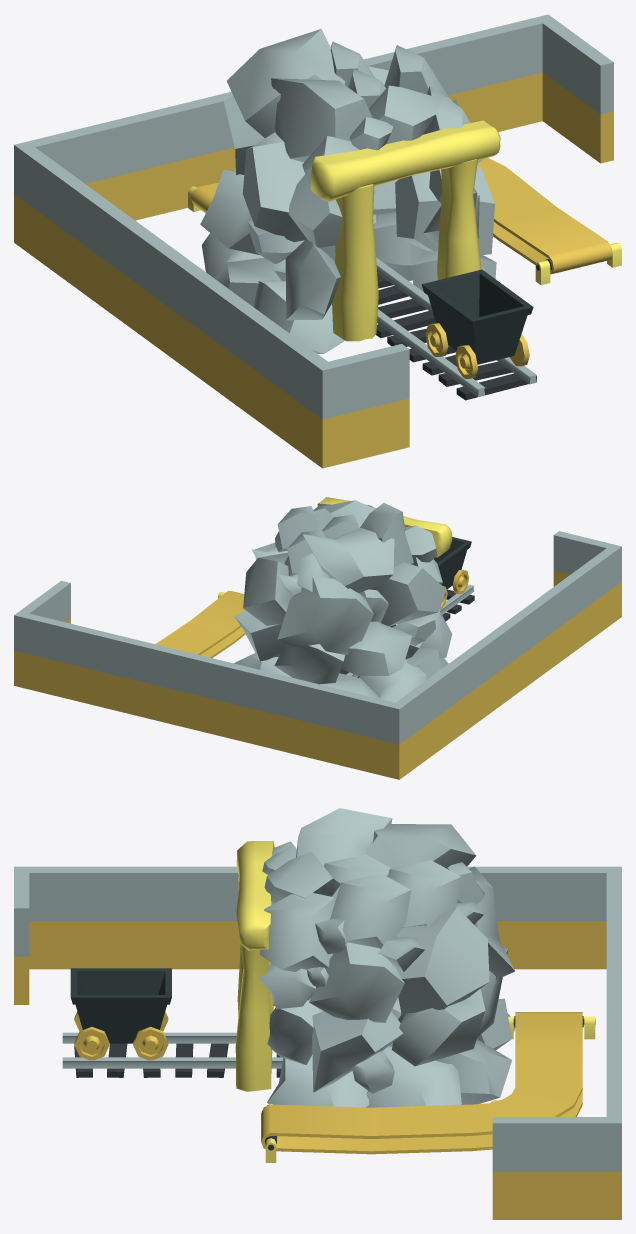
Rendered from Mine.fbx.
The picture shows the model from 3 angles, top to bottom: view 1: azimuth 30°, elevation 25°; view 2: azimuth 150°, elevation 25°; view 3: azimuth 270°, elevation 25°; orthographic projection. The views are drawn at different scales.
Parts seen in each view (by area): view 1: Zabor, Mine, Conveur, Wagon, Rails, WagonWheelR, WagonWheelF; view 2: Zabor, Mine, Conveur, Wagon, Rails; view 3: Mine, Zabor, Conveur, Wagon, Rails, WagonWheelR, WagonWheelF.
Part boxes in pixels (left/top/right/bottom): Zabor: left=14, top=14, right=613, bottom=468; Mine: left=200, top=29, right=500, bottom=353; Conveur: left=188, top=158, right=621, bottom=285; Wagon: left=421, top=269, right=533, bottom=364; Rails: left=376, top=257, right=536, bottom=400; WagonWheelR: left=455, top=334, right=529, bottom=378; WagonWheelF: left=425, top=323, right=448, bottom=356; Zabor: left=14, top=531, right=621, bottom=779; Mine: left=234, top=497, right=452, bottom=702; Conveur: left=155, top=591, right=245, bottom=657; Wagon: left=434, top=537, right=471, bottom=589; Rails: left=339, top=584, right=474, bottom=677; Mine: left=235, top=808, right=515, bottom=1107; Zabor: left=14, top=866, right=621, bottom=1219; Conveur: left=261, top=1012, right=595, bottom=1162; Wagon: left=70, top=968, right=171, bottom=1043; Rails: left=62, top=1032, right=392, bottom=1077; WagonWheelR: left=74, top=1011, right=109, bottom=1060; WagonWheelF: left=133, top=1012, right=168, bottom=1060.
Size of the model in its own units: 8 by 3.75 by 8.
